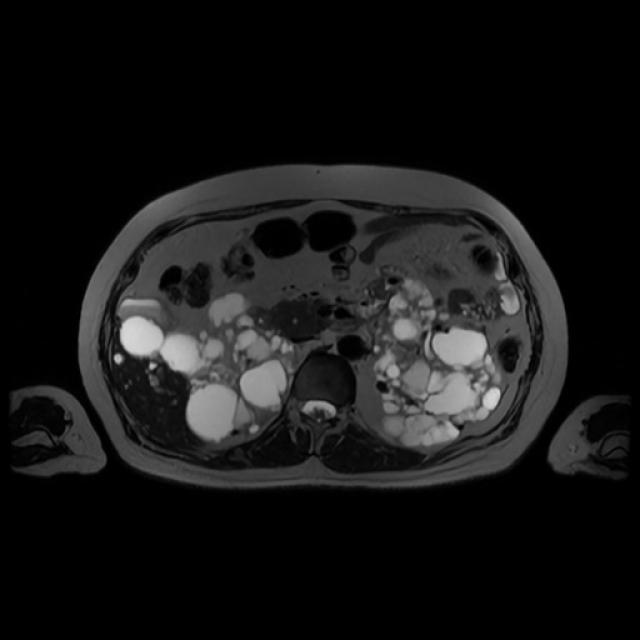sag: (166, 291, 301, 444)
sol: (363, 275, 506, 448)
